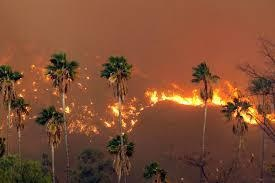fire: (141, 76, 272, 123)
